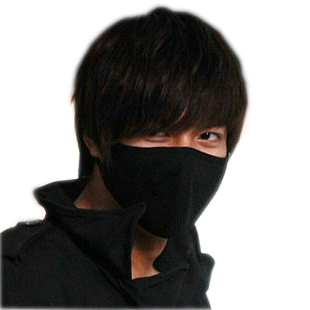face_mask: (112, 72, 231, 224)
